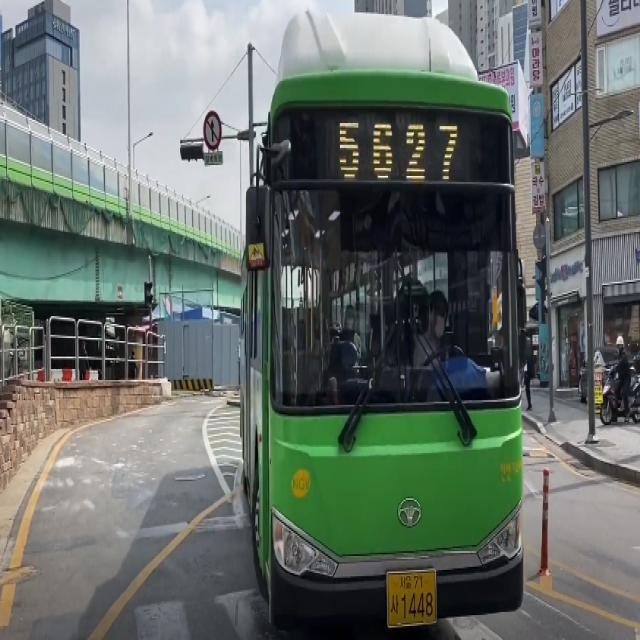bus-number: (335, 110, 460, 196)
